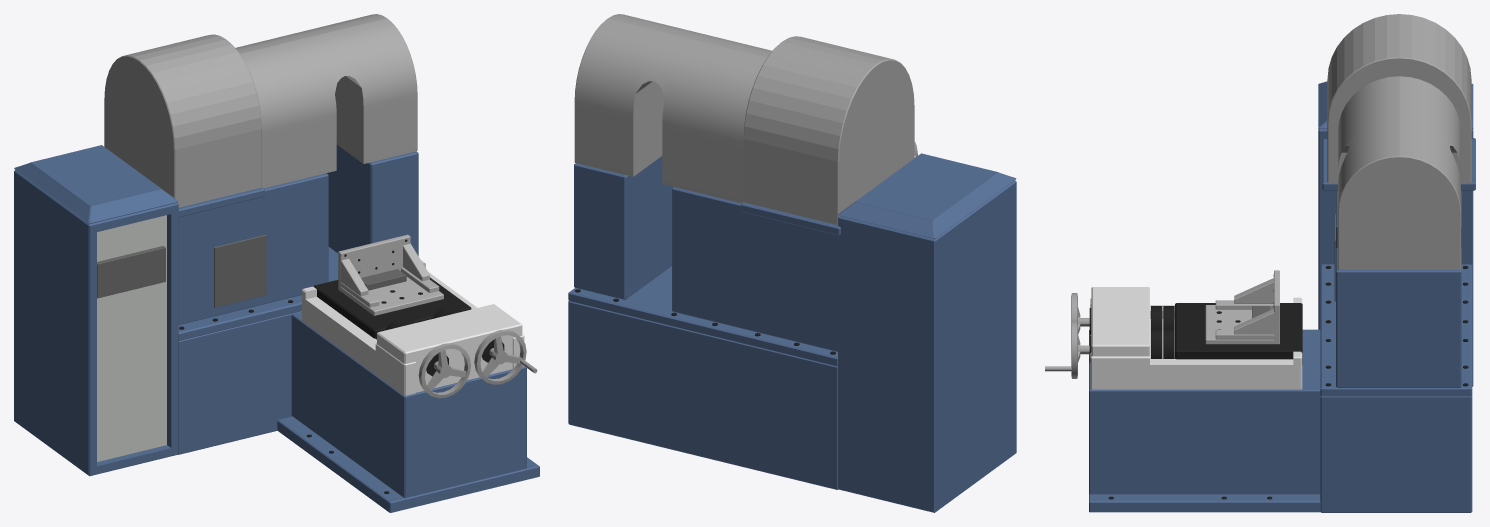
File: SYL1_05.fbx
3 renders of one model, left to right at view 1: azimuth 30°, elevation 25°; view 2: azimuth 150°, elevation 25°; view 3: azimuth 270°, elevation 25°, orthographic. The views are drawn at different scales.
Parts seen in each view (by area): view 1: SYL1_05; view 2: SYL1_05; view 3: SYL1_05.
Part boxes in pixels (bbox=[...]): SYL1_05: bbox=[14, 14, 539, 512]; SYL1_05: bbox=[568, 14, 1016, 512]; SYL1_05: bbox=[1045, 14, 1475, 512].
Size of the model in its own units: 281 by 290 by 302.
